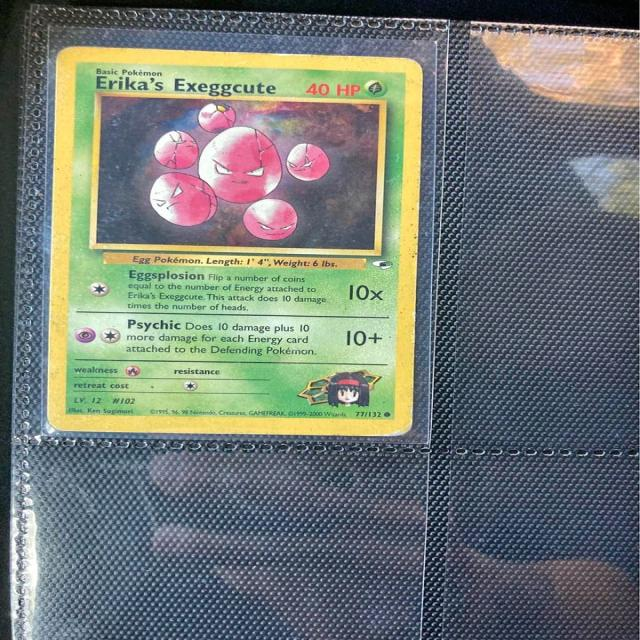card: (43, 44, 424, 438)
